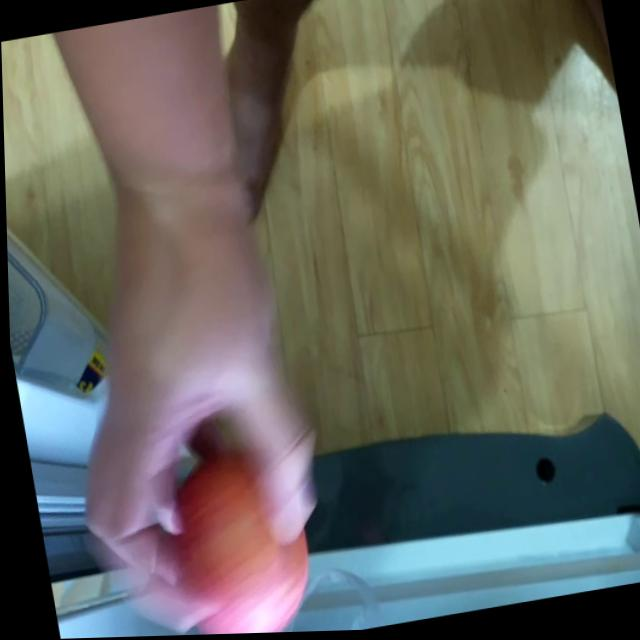apple: (160, 453, 317, 637)
